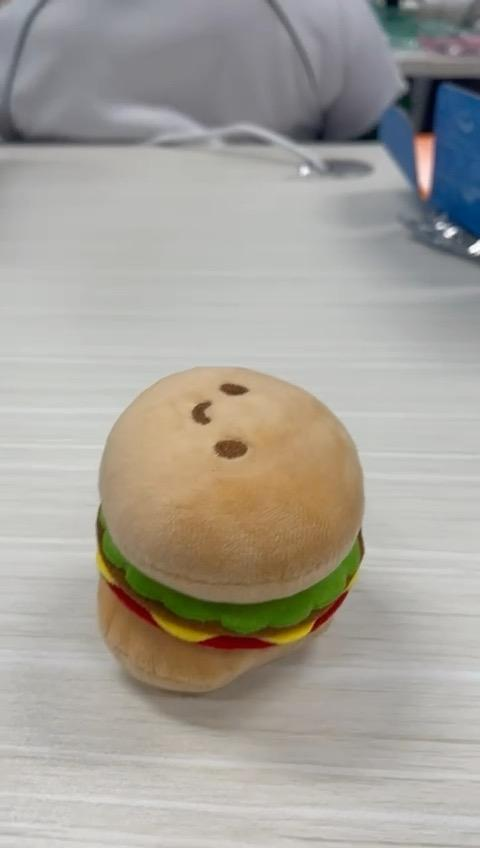hamburger: (94, 366, 367, 694)
